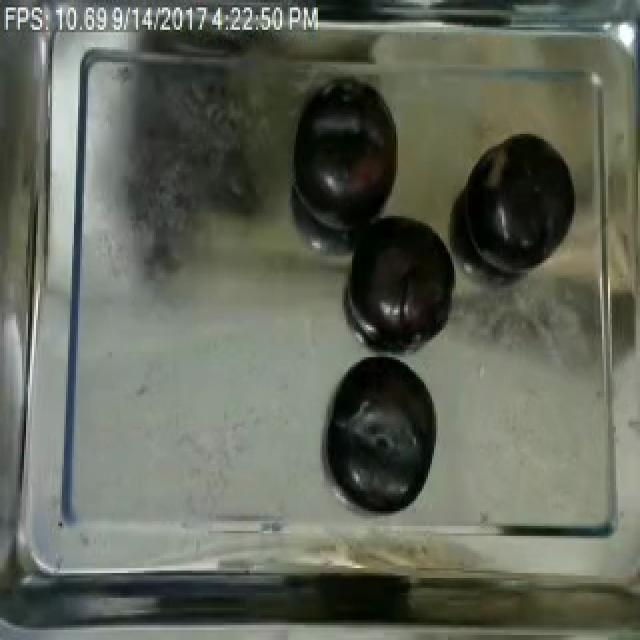Fruit: (320, 345, 442, 513), (460, 127, 582, 276), (284, 77, 404, 228), (346, 206, 462, 350)
